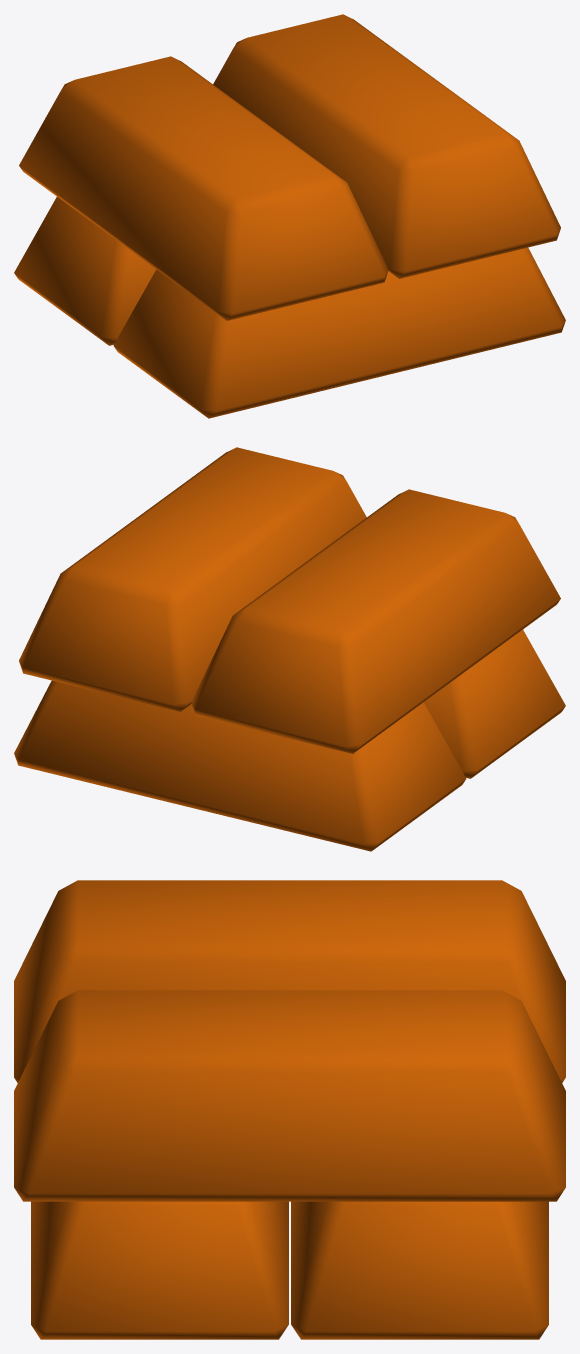
Rendered from SRA_Metal_Copper_Ingot_Stack_03.glb.
3 views of the same model, one above another, from view 1: azimuth 30°, elevation 25°; view 2: azimuth 150°, elevation 25°; view 3: azimuth 270°, elevation 25° (orthographic). The views are drawn at different scales.
Visible parts, largest first — view 1: Metal_Copper_Ingot_Stack_03; view 2: Metal_Copper_Ingot_Stack_03; view 3: Metal_Copper_Ingot_Stack_03.
Part boxes in pixels (<box>): Metal_Copper_Ingot_Stack_03: <box>14,14,565,418</box>; Metal_Copper_Ingot_Stack_03: <box>14,447,565,851</box>; Metal_Copper_Ingot_Stack_03: <box>14,880,565,1339</box>.
Bounding box in the file's own units: 0.4242 × 0.2214 × 0.4242.
Materials: 1 (1 with a texture image).
